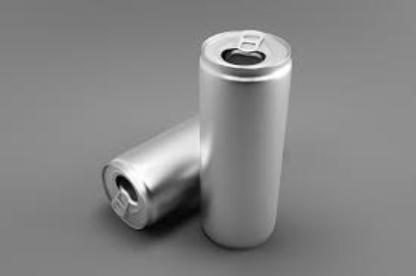Can: (198, 29, 290, 251), (100, 109, 198, 231)
